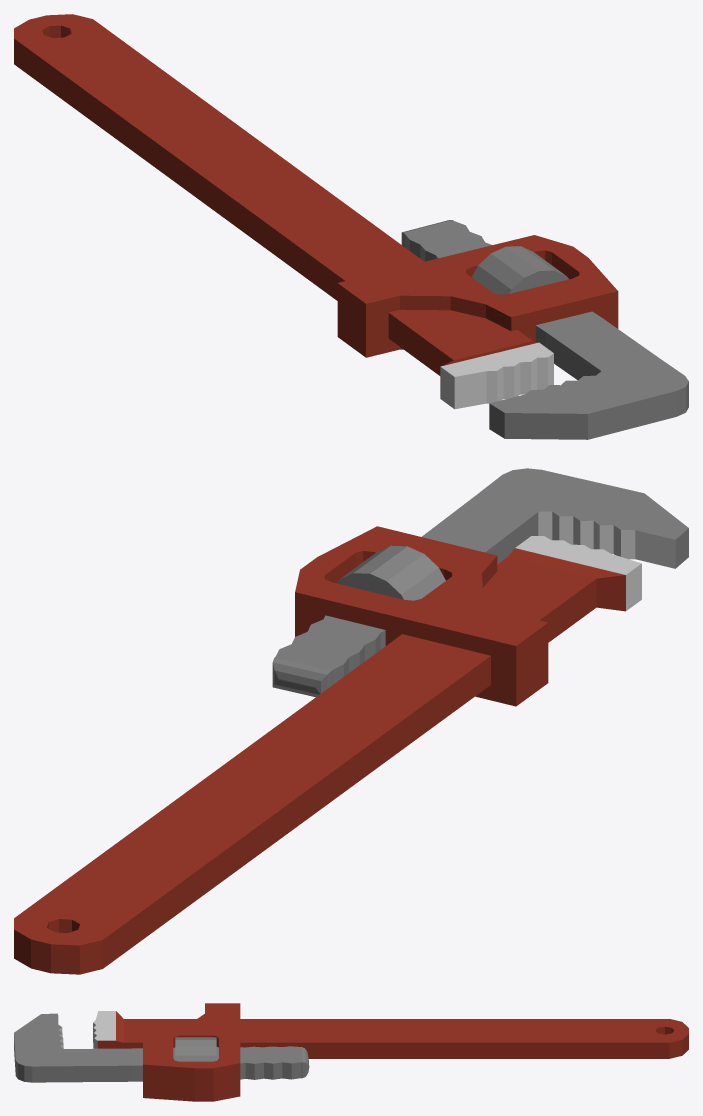
The model's file is Pipe_Wrench.fbx.
3 views of the same model, one above another, from view 1: azimuth 30°, elevation 25°; view 2: azimuth 150°, elevation 25°; view 3: azimuth 270°, elevation 25° (orthographic). The views are drawn at different scales.
Parts seen in each view (by area): view 1: Pipe_Wrench_Handle, Pipe_Wrench_Top, Pipe_Wrench_Wheel; view 2: Pipe_Wrench_Handle, Pipe_Wrench_Top, Pipe_Wrench_Wheel; view 3: Pipe_Wrench_Handle, Pipe_Wrench_Top, Pipe_Wrench_Wheel.
Boxes of the visible parts, bbox=[...] form: Pipe_Wrench_Handle: bbox=[14, 14, 618, 409]; Pipe_Wrench_Top: bbox=[401, 220, 688, 439]; Pipe_Wrench_Wheel: bbox=[472, 246, 568, 294]; Pipe_Wrench_Handle: bbox=[14, 526, 641, 974]; Pipe_Wrench_Top: bbox=[272, 468, 688, 697]; Pipe_Wrench_Wheel: bbox=[336, 545, 445, 600]; Pipe_Wrench_Handle: bbox=[93, 1003, 688, 1101]; Pipe_Wrench_Top: bbox=[14, 1013, 309, 1082]; Pipe_Wrench_Wheel: bbox=[175, 1037, 216, 1061].
Size of the model in its own units: 0.153 by 0.056 by 0.6732.
